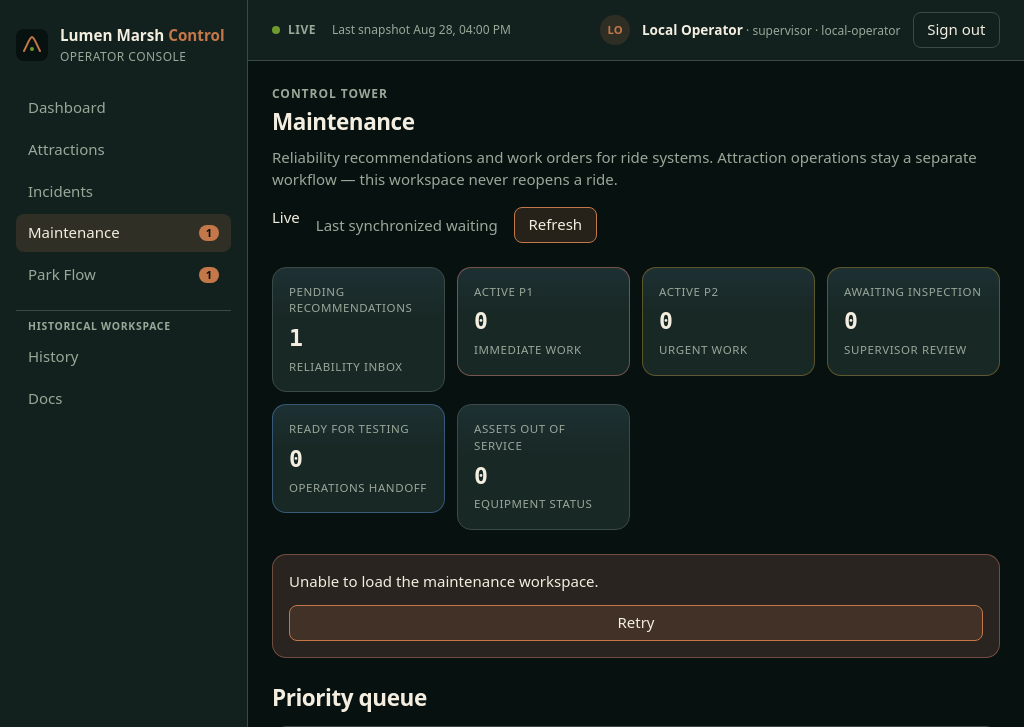
MaintenancePage › retries the work-order list after a failure
This screenshot has width=1024, height=727.
Check: the text "Unable to load the maintenance workspace." is shown, box x1=289 y1=571 x2=599 y2=591
Click the button "Retry": click(636, 623) x1=289 y1=605 x2=983 y2=641
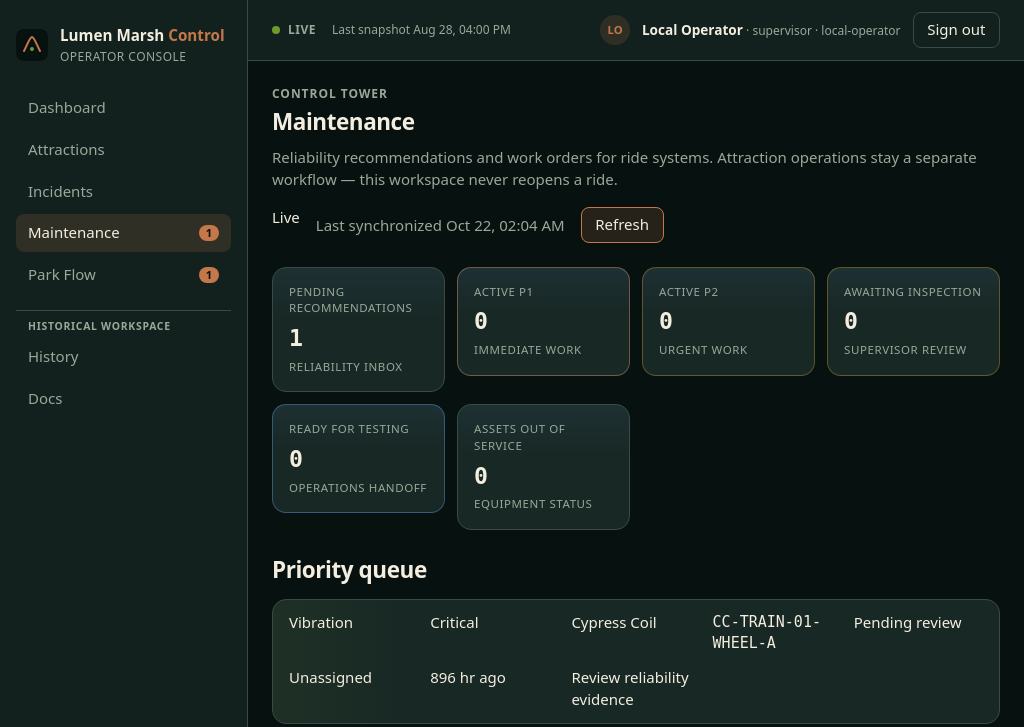
Check: the text "Unable to load the maintenance workspace." is gone
